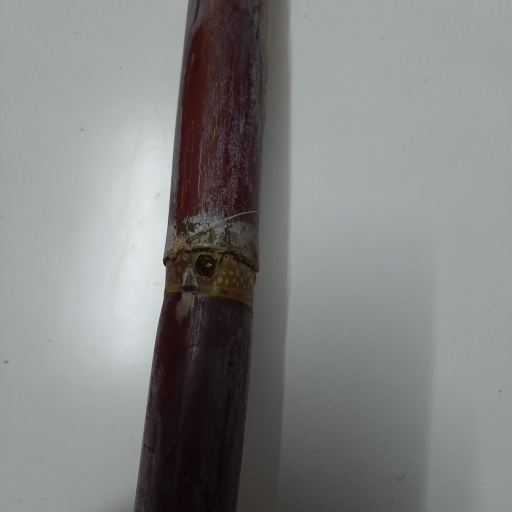Damage_Bud: (195, 255, 216, 280)
